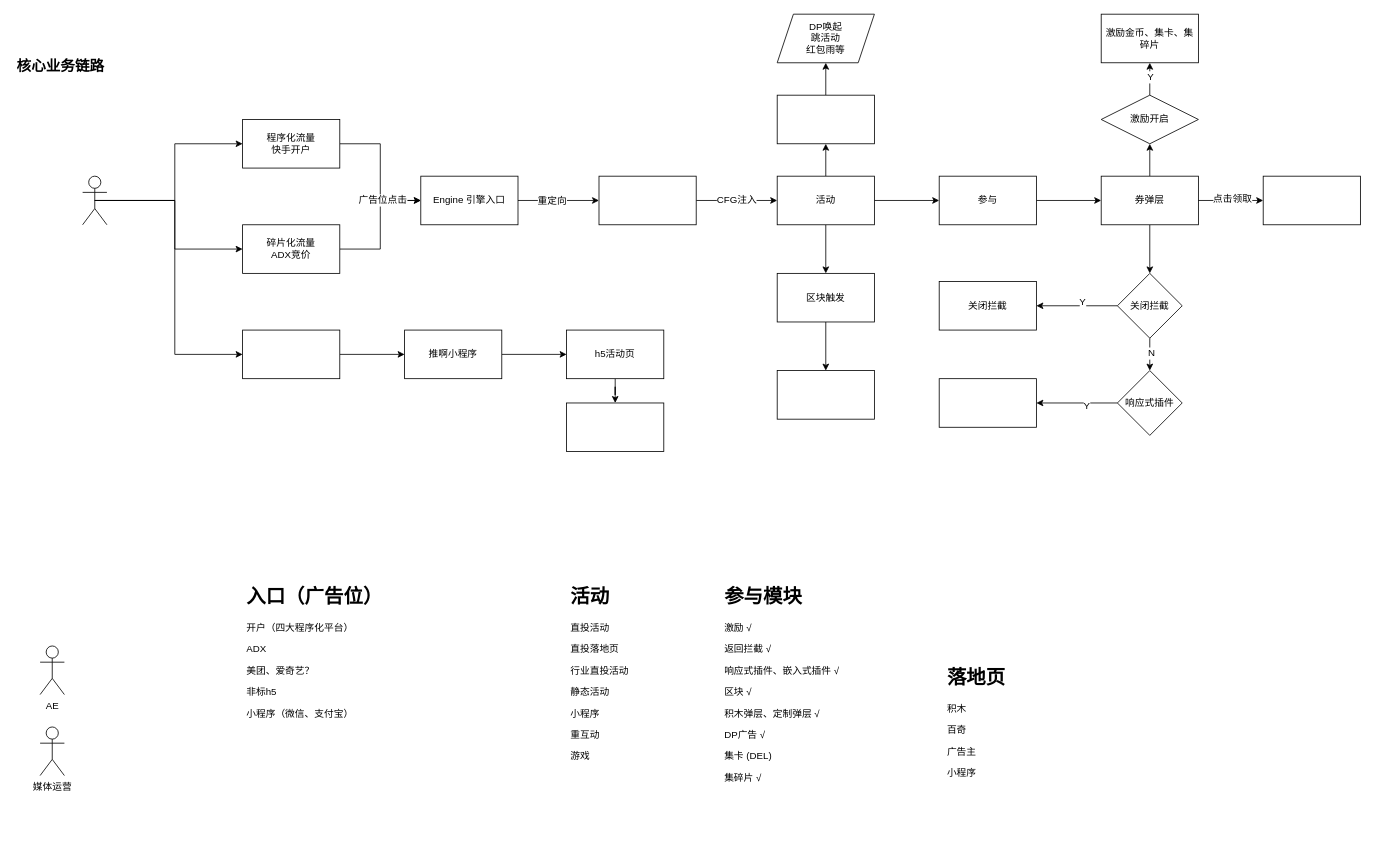
Some shapes in this 1375 by 863 pixel diagram are drawn without their labels. The shapes that lost their labels are listed below. From the top down, each one's box as (x1, y1, x2, y2) in pixels, then its label:
(776, 94, 874, 144): 返回拦截
(82, 175, 107, 225): 用户
(598, 175, 696, 225): AC-WEB 系统
(1262, 175, 1360, 225): 落地页
(242, 329, 340, 379): 小程序
(776, 370, 874, 419): 跳广告、活动、嵌入式插件
(938, 378, 1036, 427): 触发插件
(566, 402, 664, 452): 广告主页面 / 小程序
